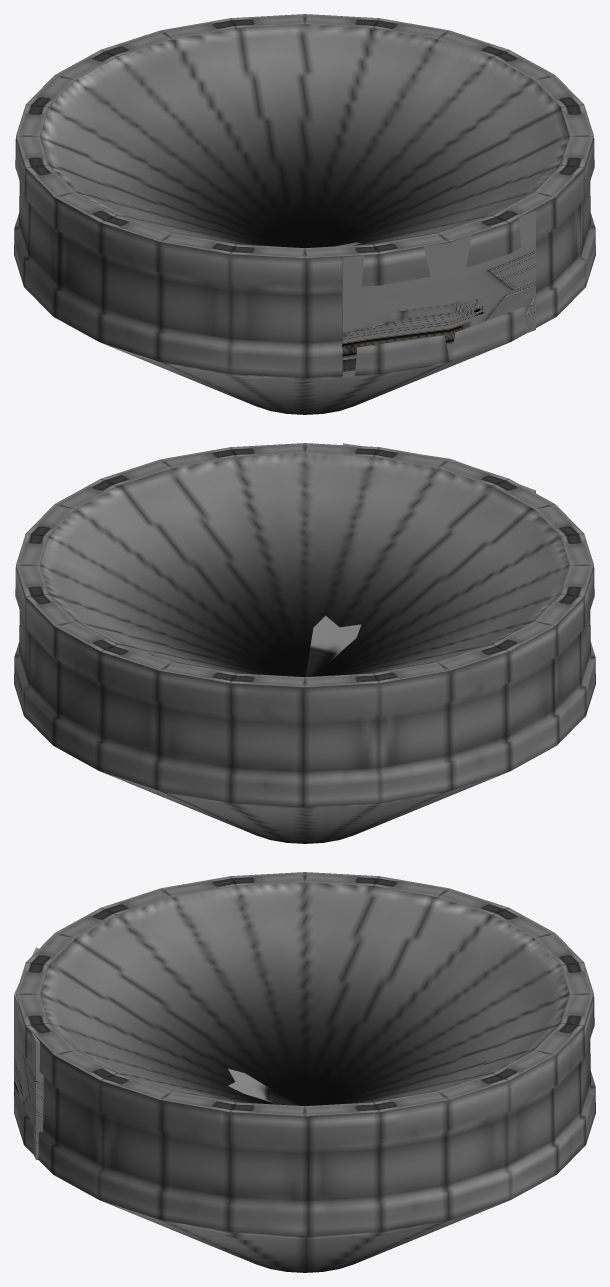
File: Apollo_Block2_PassiveDocking.dae
The picture shows the model from 3 angles, top to bottom: view 1: azimuth 30°, elevation 25°; view 2: azimuth 150°, elevation 25°; view 3: azimuth 270°, elevation 25°; orthographic projection.
Visible parts, largest first — view 1: Apollo_Docking_Passive2, pCylinder80; view 2: Apollo_Docking_Passive2, pCylinder80; view 3: Apollo_Docking_Passive2, pCylinder80.
Boxes of the visible parts, x1,y1,x2,y2 form: Apollo_Docking_Passive2: (14,14,595,414); pCylinder80: (333,211,535,376); Apollo_Docking_Passive2: (14,443,595,843); pCylinder80: (305,443,535,676); Apollo_Docking_Passive2: (14,872,595,1272); pCylinder80: (14,947,297,1159).
Size of the model in its own units: 0.625 by 0.2956 by 0.625.
